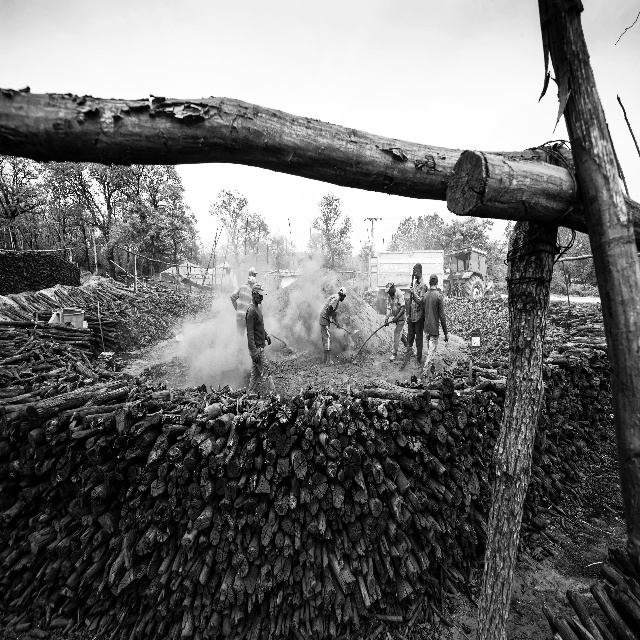Guantes: (252, 352, 259, 363), (409, 285, 415, 295), (266, 334, 271, 346), (391, 316, 398, 324), (336, 320, 341, 329), (384, 318, 389, 327), (444, 334, 449, 342), (329, 315, 332, 324)
